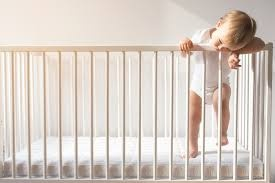baby: (180, 10, 264, 144)
crib: (0, 43, 271, 181)
